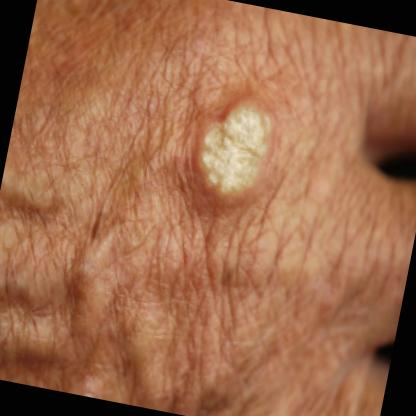Warts: (180, 67, 296, 218)
